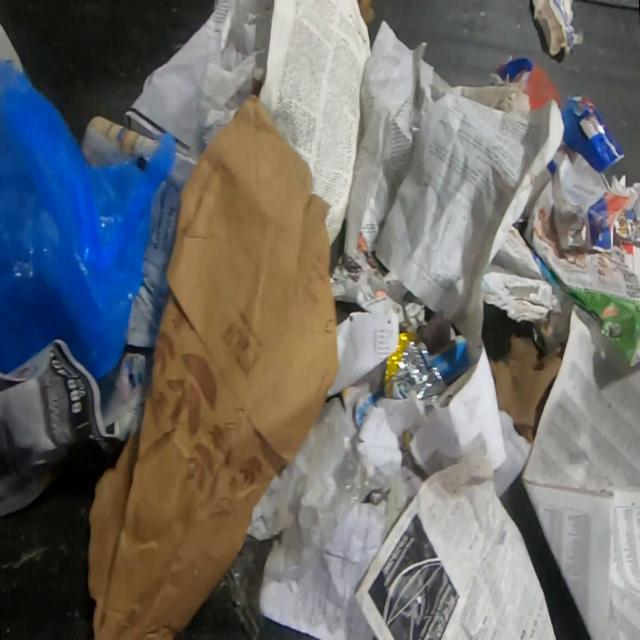metal: (382, 327, 448, 400)
soft_plastic: (0, 56, 178, 383), (215, 394, 402, 640)
